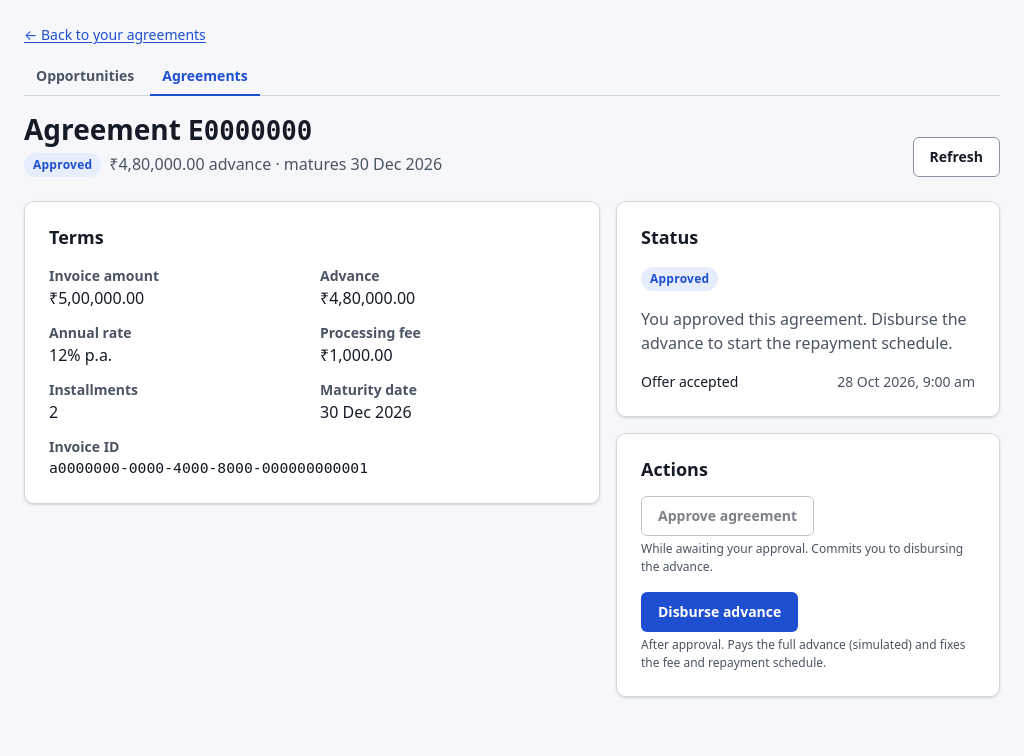
AgreementDetailComponent › retries a disbursement whose answer was lost with the same key
This screenshot has width=1024, height=756.
Click the button "Disburse advance". click: {"x": 720, "y": 612}
box: x1=641 y1=592 x2=798 y2=632
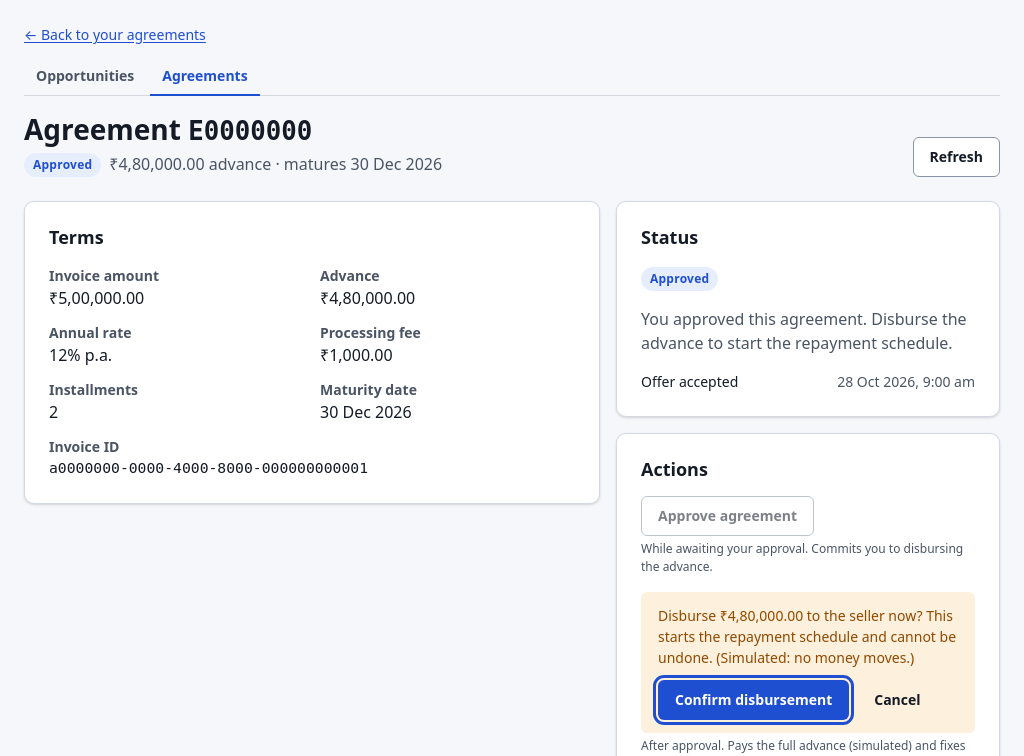
Click the button "Confirm disbursement". click: {"x": 754, "y": 700}
box: x1=658 y1=680 x2=849 y2=720
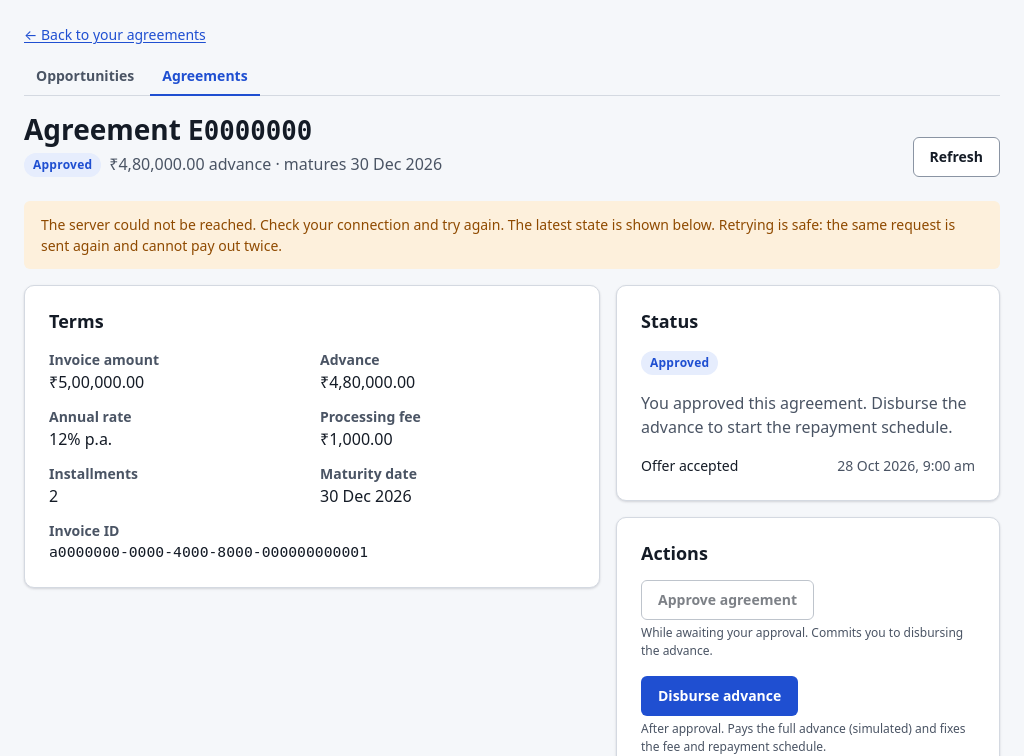
Expected: the message with class "notice" shows "Retrying is safe", x1=41 y1=215 x2=955 y2=255
Click the button "Disburse advance". click: {"x": 720, "y": 696}
box: x1=641 y1=676 x2=798 y2=716
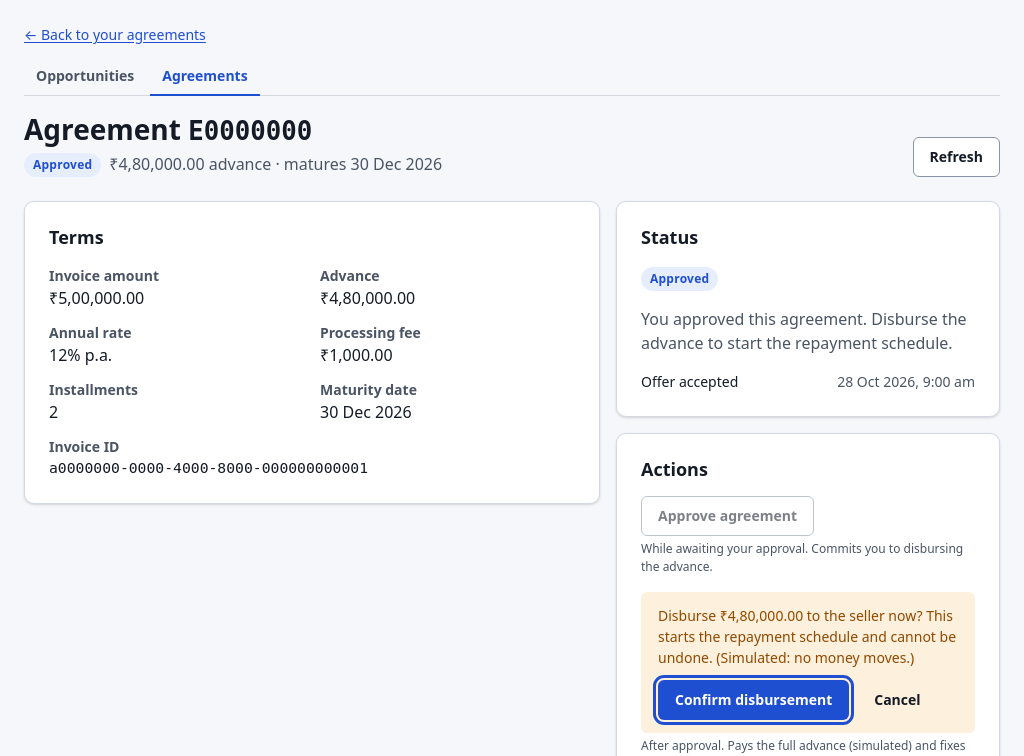
Click the button "Confirm disbursement". click: {"x": 754, "y": 700}
box: x1=658 y1=680 x2=849 y2=720
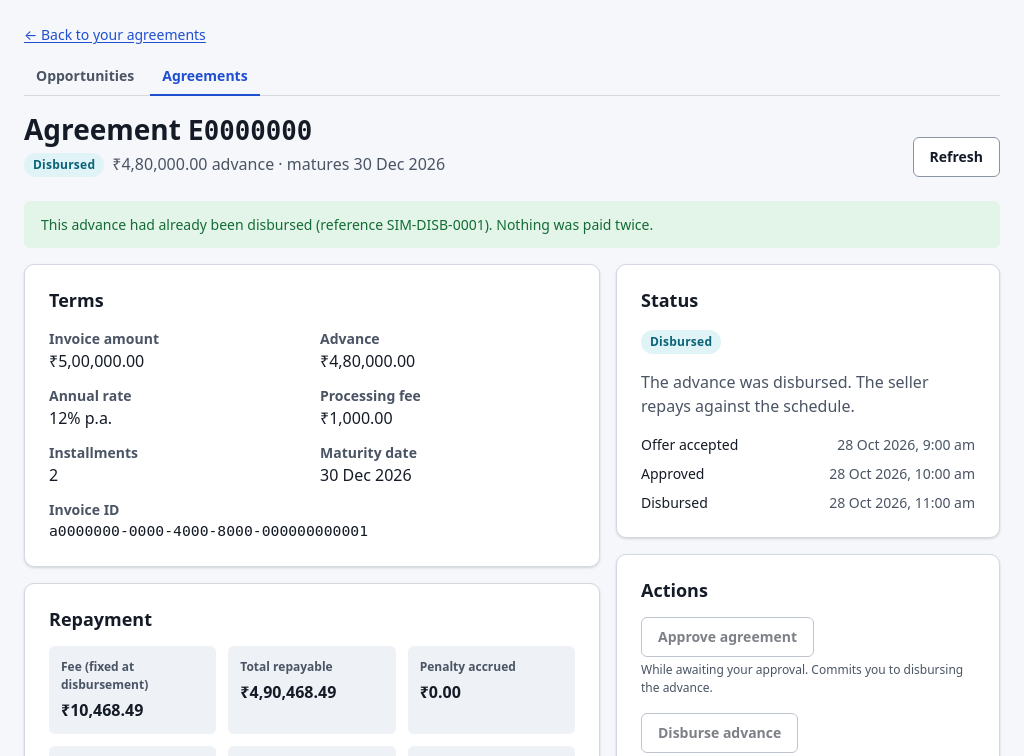
Expected: the message with class "notice" shows "had already been disbursed", x1=41 y1=215 x2=653 y2=234
Expected: the message with class "notice" shows "Nothing was paid twice.", x1=41 y1=215 x2=653 y2=234
